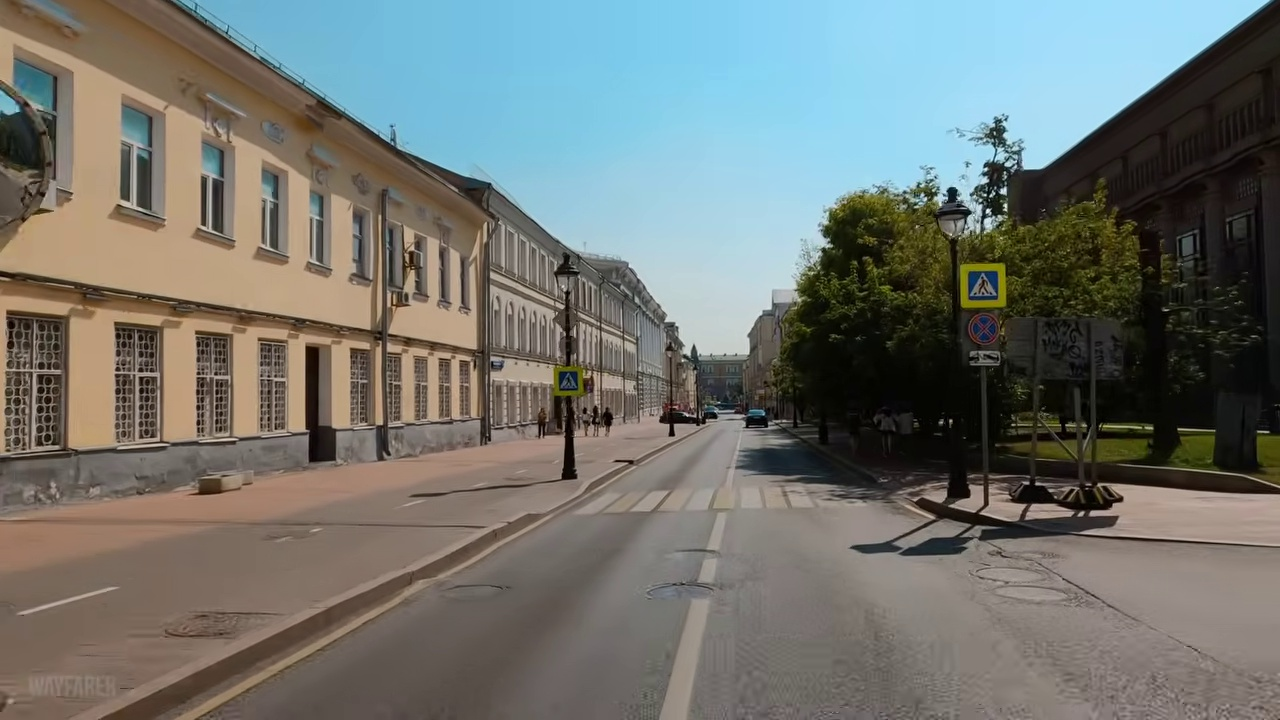apagada: (934, 199, 965, 241), (553, 264, 582, 296)
